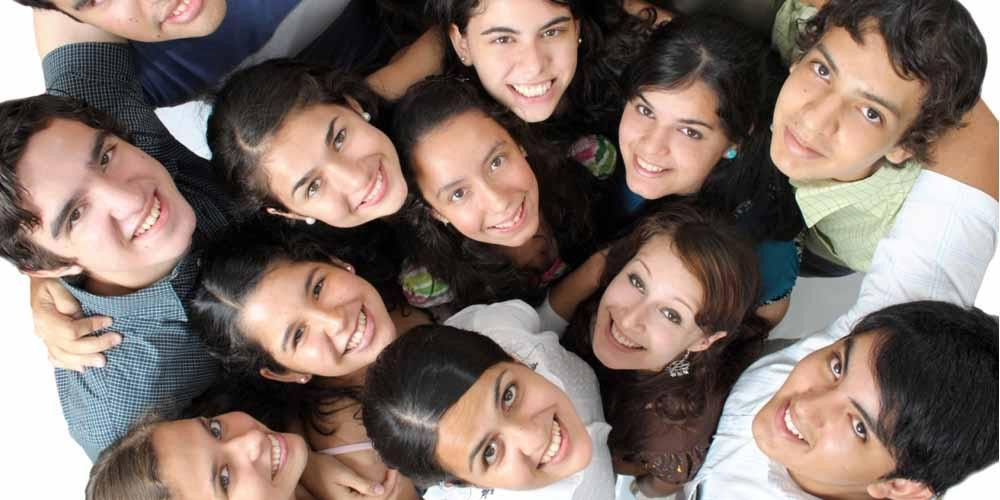hairnetless: (864, 294, 1000, 500), (332, 331, 495, 496), (191, 207, 331, 395), (647, 161, 778, 328), (654, 2, 802, 144), (191, 64, 330, 179), (0, 76, 99, 229), (856, 0, 998, 101), (77, 394, 189, 500), (396, 79, 504, 160)
maskless: (767, 72, 882, 206), (754, 347, 849, 500), (111, 146, 211, 285), (511, 342, 599, 499), (317, 111, 435, 221), (572, 272, 667, 394), (429, 176, 565, 259), (337, 269, 406, 428), (499, 46, 598, 132), (231, 399, 309, 500), (624, 102, 692, 210), (146, 0, 243, 68)
